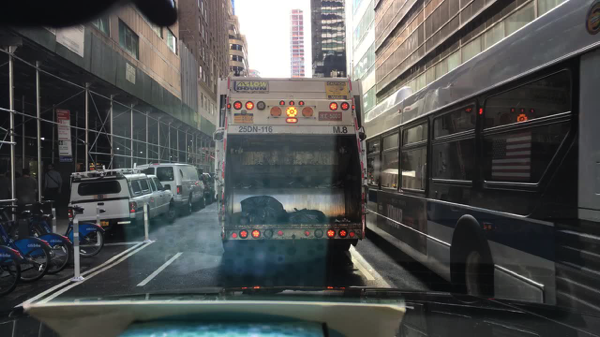bike: (13, 192, 106, 259), (0, 198, 73, 275), (0, 209, 52, 284), (0, 242, 24, 297)
bus: (364, 0, 599, 314)
car: (68, 166, 178, 236), (134, 161, 207, 215), (202, 172, 216, 203)
person: (15, 166, 38, 213), (43, 162, 63, 216), (0, 160, 13, 212)
traffic sign: (58, 108, 74, 162)
truck: (213, 76, 372, 261)
